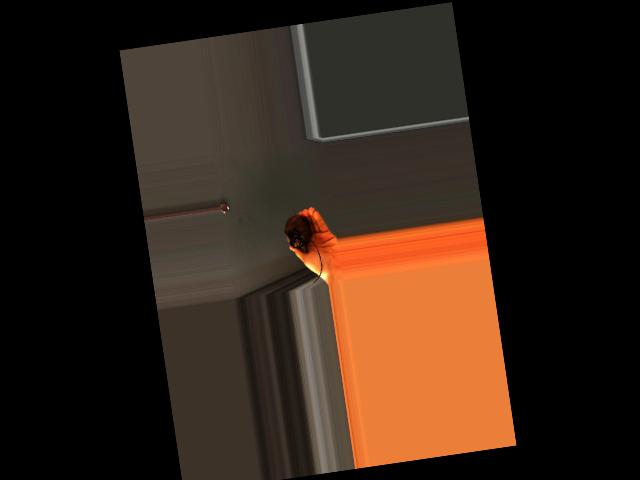beet: (281, 203, 324, 284)
